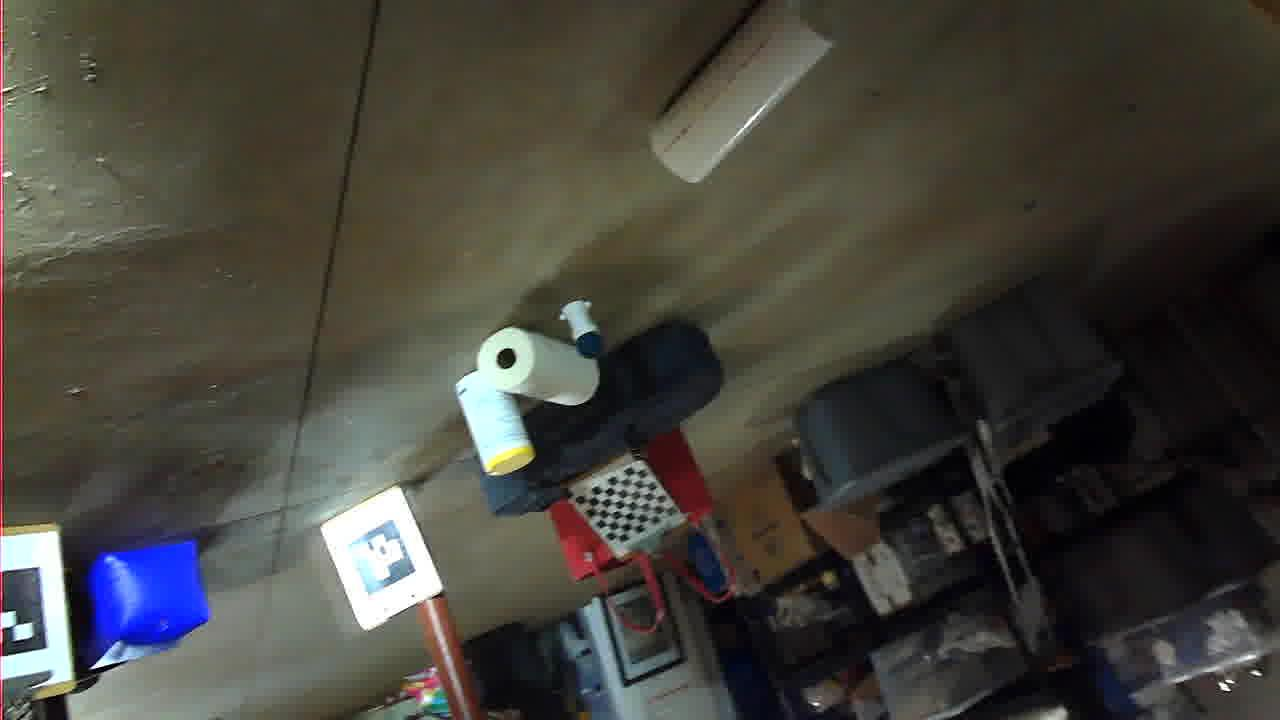coral: (449, 542, 633, 720)
